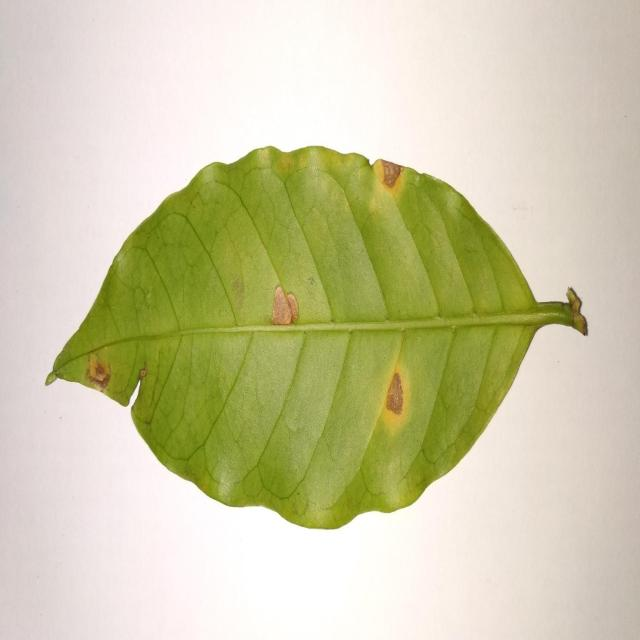Enfermedad-Mancha-de-hierro: (46, 147, 588, 532)
